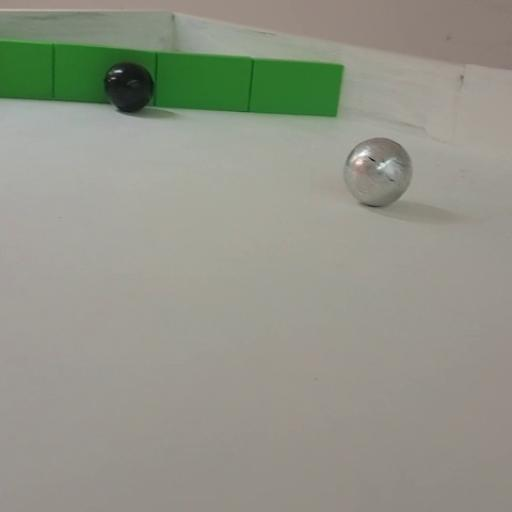alive: (343, 138, 413, 206)
dead: (104, 62, 154, 112)
